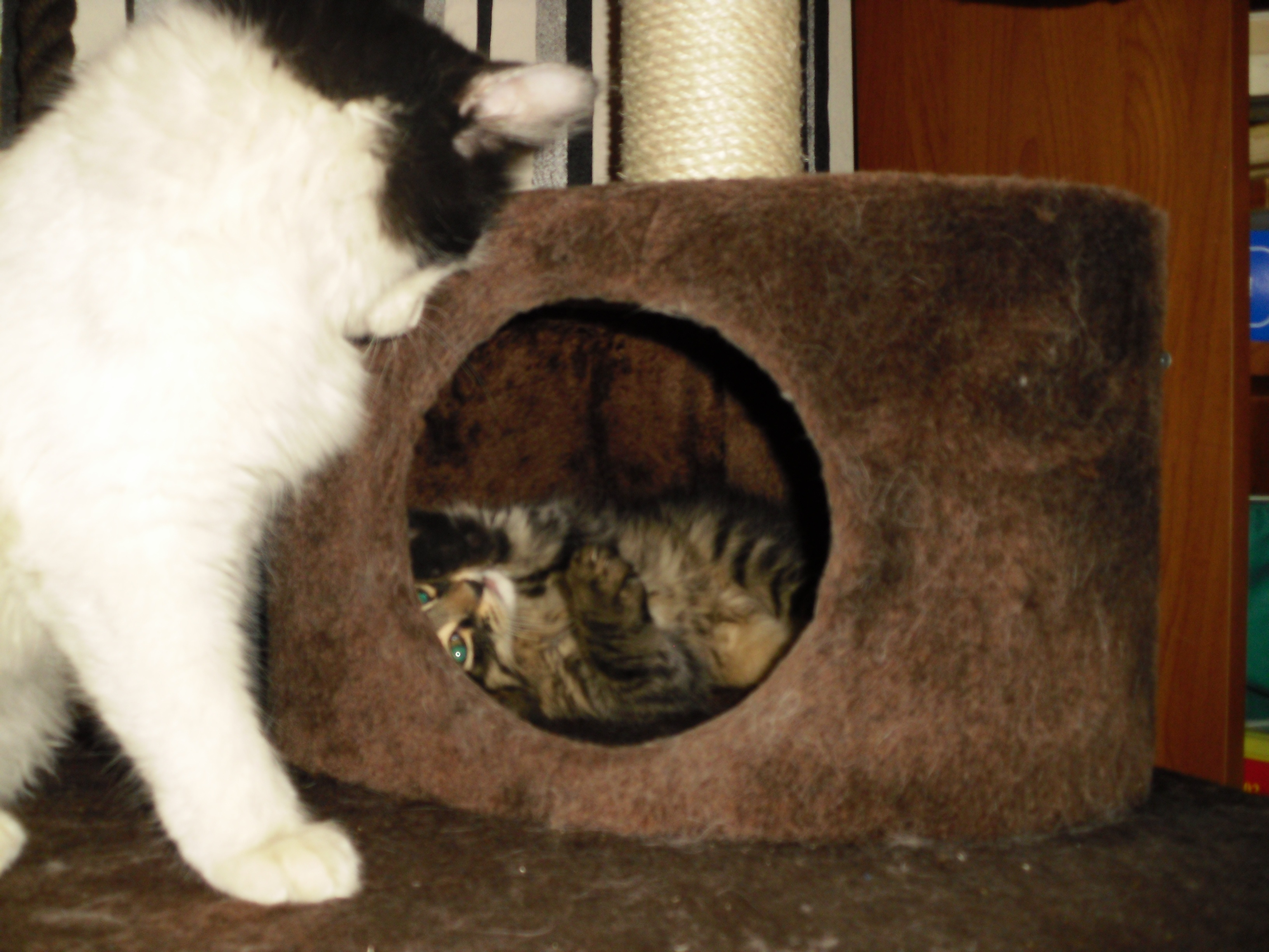cat: (0, 0, 598, 910), (401, 492, 821, 735)
